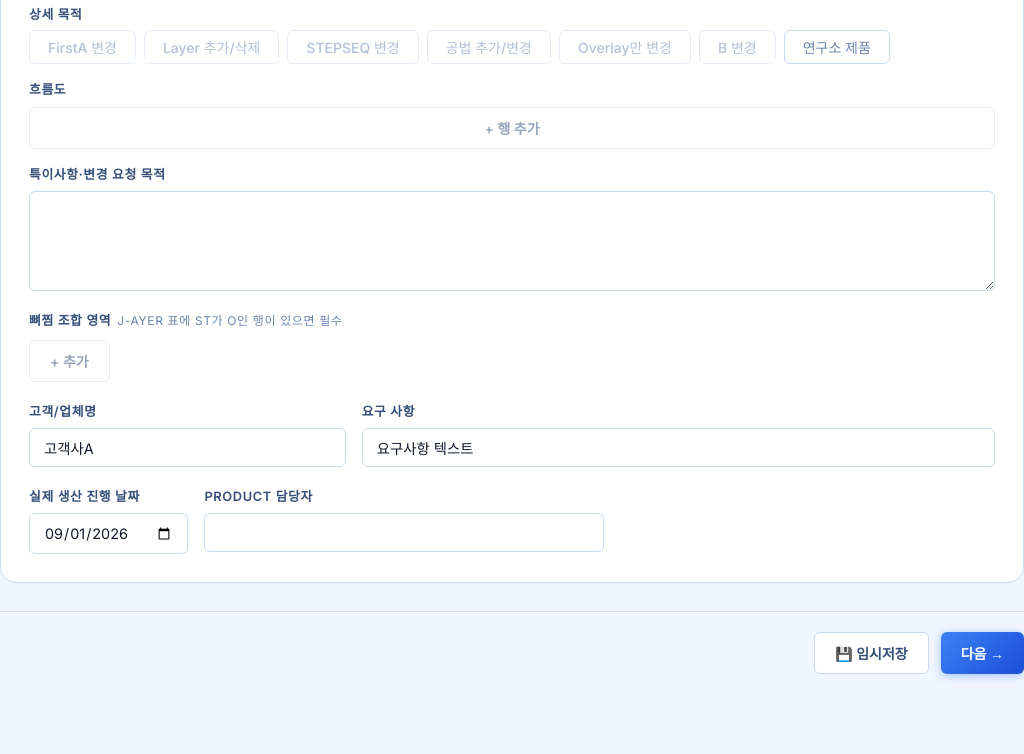
Test: 합의자가 필수에서 필수 아님으로 바뀌면 SA 지정·사유·체크가 모두 초기화된다 › 문서를 불러올 때는 저장된 SA 지정을 건드리지 않는다(필수 조건이 계속 true)
(page scrolled)
Expected: the field showing "고객사A" below "고객/업체명" is shown, [29,428,346,467]
Click the button "다음 →" at [982, 653], box [941,632,1023,674]
(page scrolled)
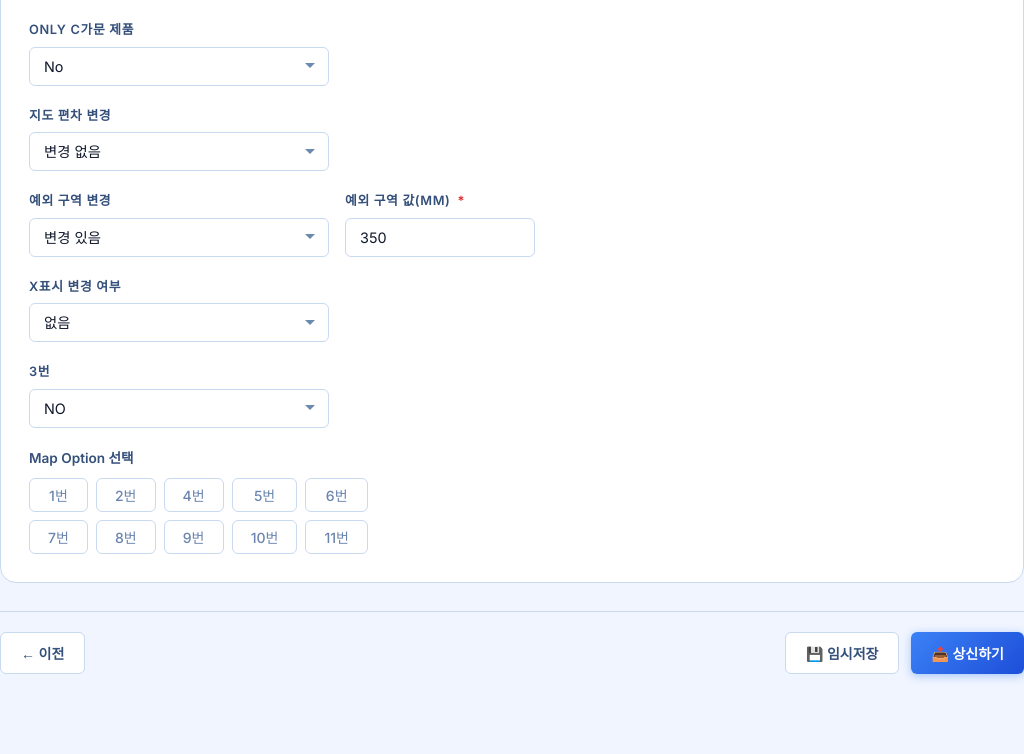
Expected: the button "📤 상신하기" is shown
Click the button "📤 상신하기" at [968, 652], box [912,632,1023,674]
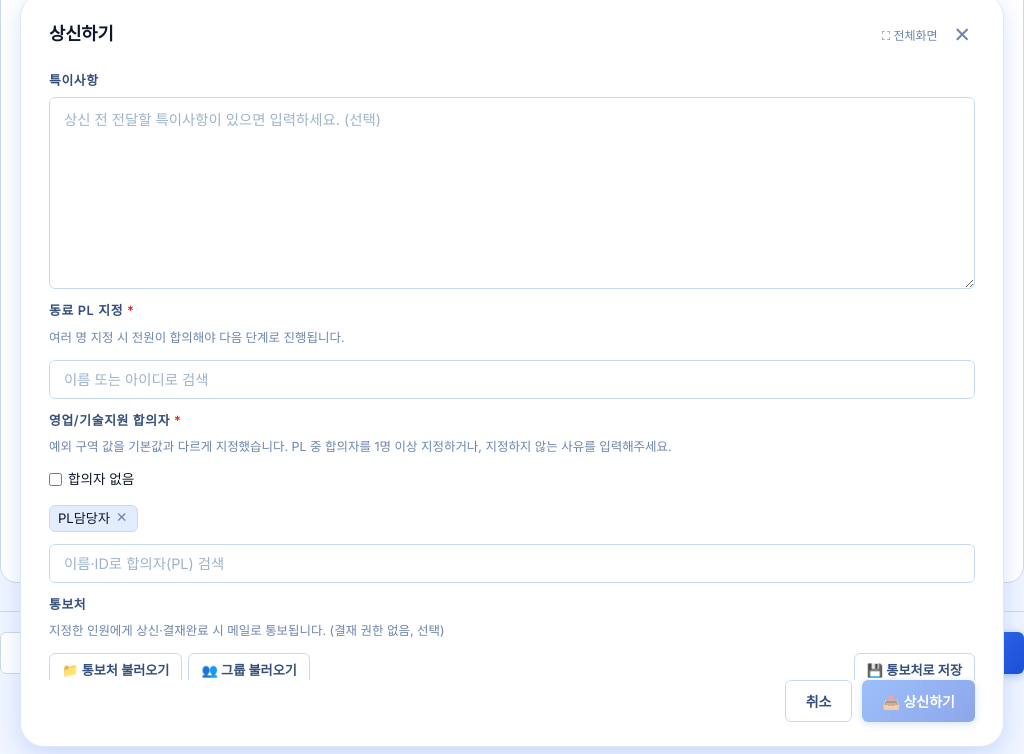
Expected: the element that starts with "영업/기술지원 합의자" is shown, [49,410,975,583]
Expected: the text "PL담당자" is shown, [58,510,110,526]
